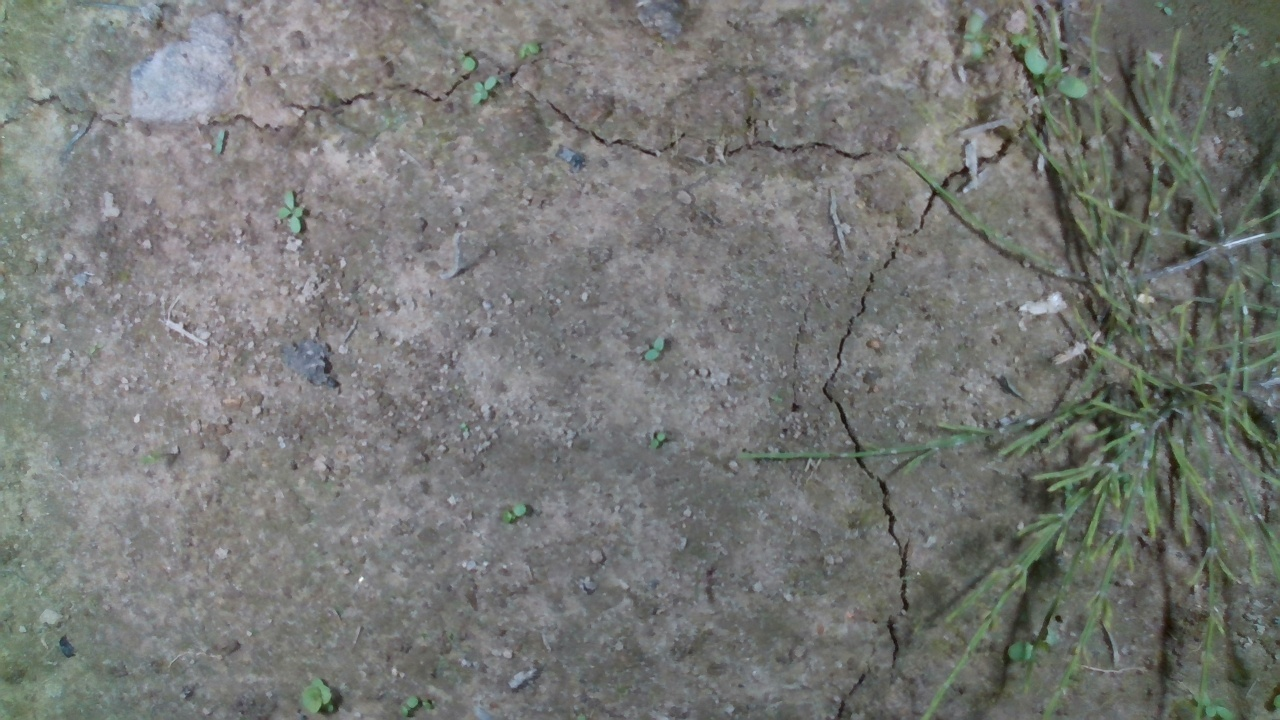weed: (274, 189, 305, 235), (468, 76, 497, 108), (643, 333, 665, 363), (501, 501, 527, 525), (396, 694, 421, 718), (213, 126, 228, 157), (649, 430, 669, 452), (1153, 0, 1173, 17)
